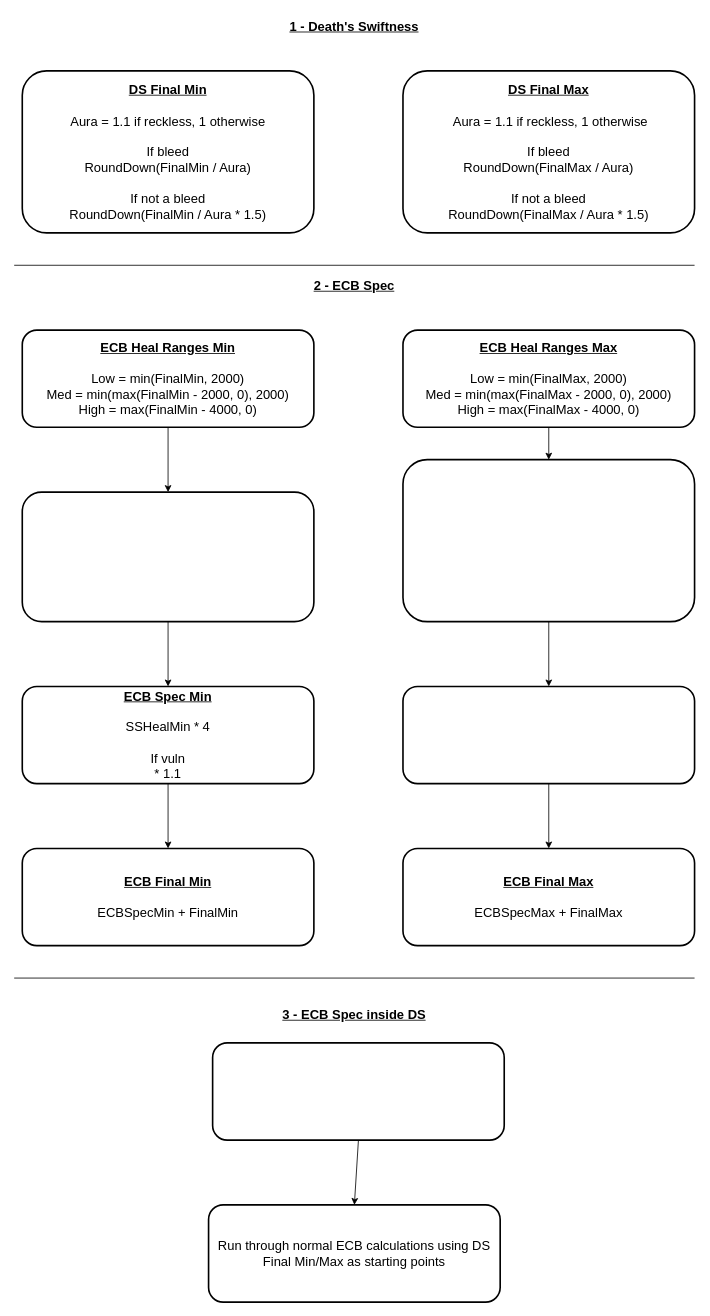
Some shapes in this 710 by 1316 pixel diagram are drawn without their labels. Here are the shapes that lost their labels. From the top down, the box of each, then its label:
(21, 491, 314, 622): Soul Split Heal Min Low * .1 + Med * .05 + High * .0125
(402, 458, 695, 622): Soul Split Heal Max Low * .1 + Med * .05 + High * .0125 If Souls or EoF * 1.5
(402, 685, 695, 784): ECB Spec Max SSHealMax * 4 If vuln * 1.1
(211, 1042, 505, 1140): Run through normal DS calculations
